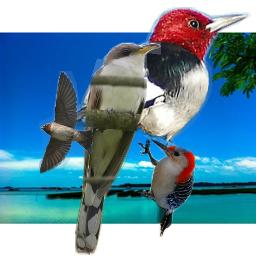Cuckoo: (75, 42, 161, 255)
Swallow: (39, 71, 93, 174)
Woodpecker: (67, 7, 252, 160), (138, 139, 195, 237)
